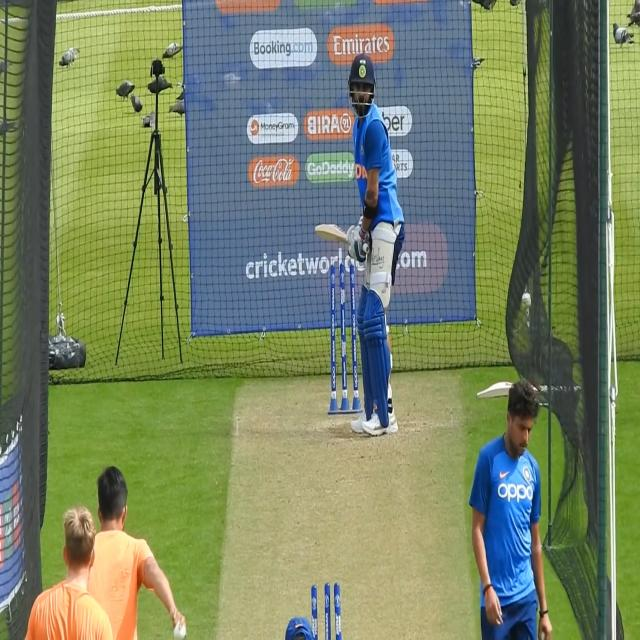stump: (329, 260, 361, 416)
